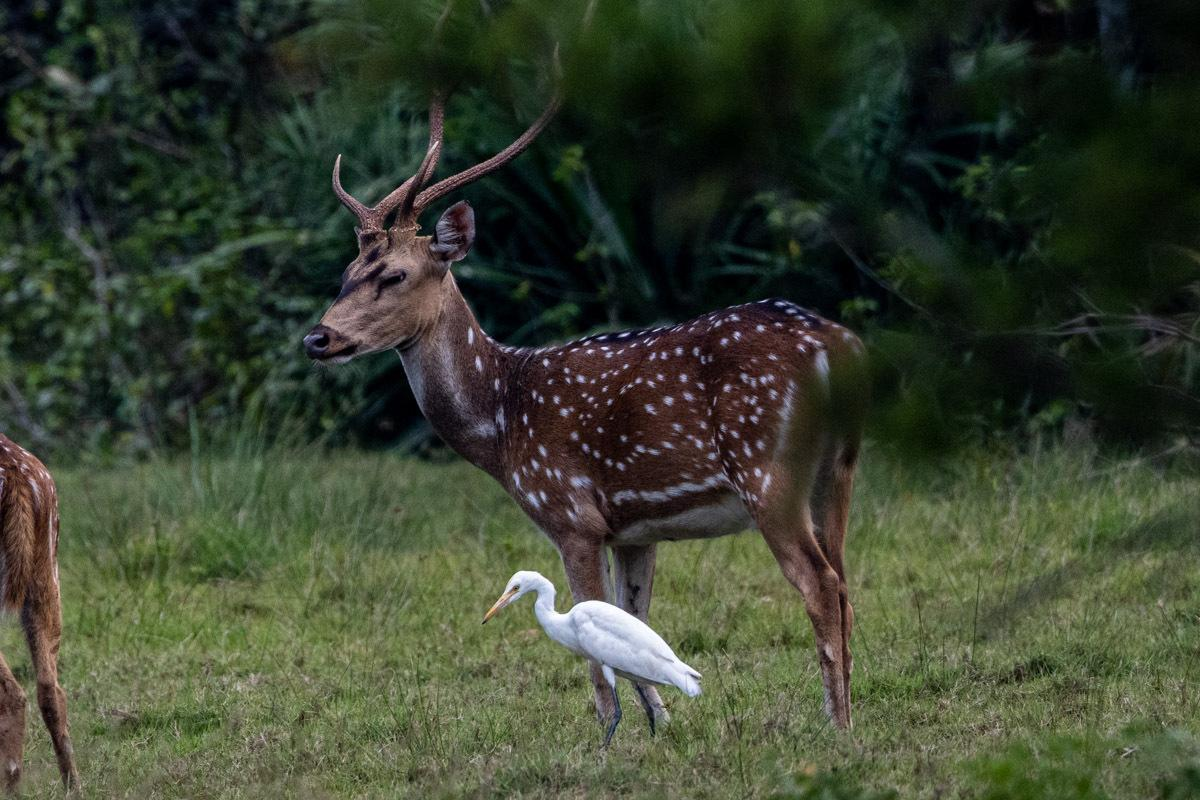Deer: (303, 102, 867, 725)
